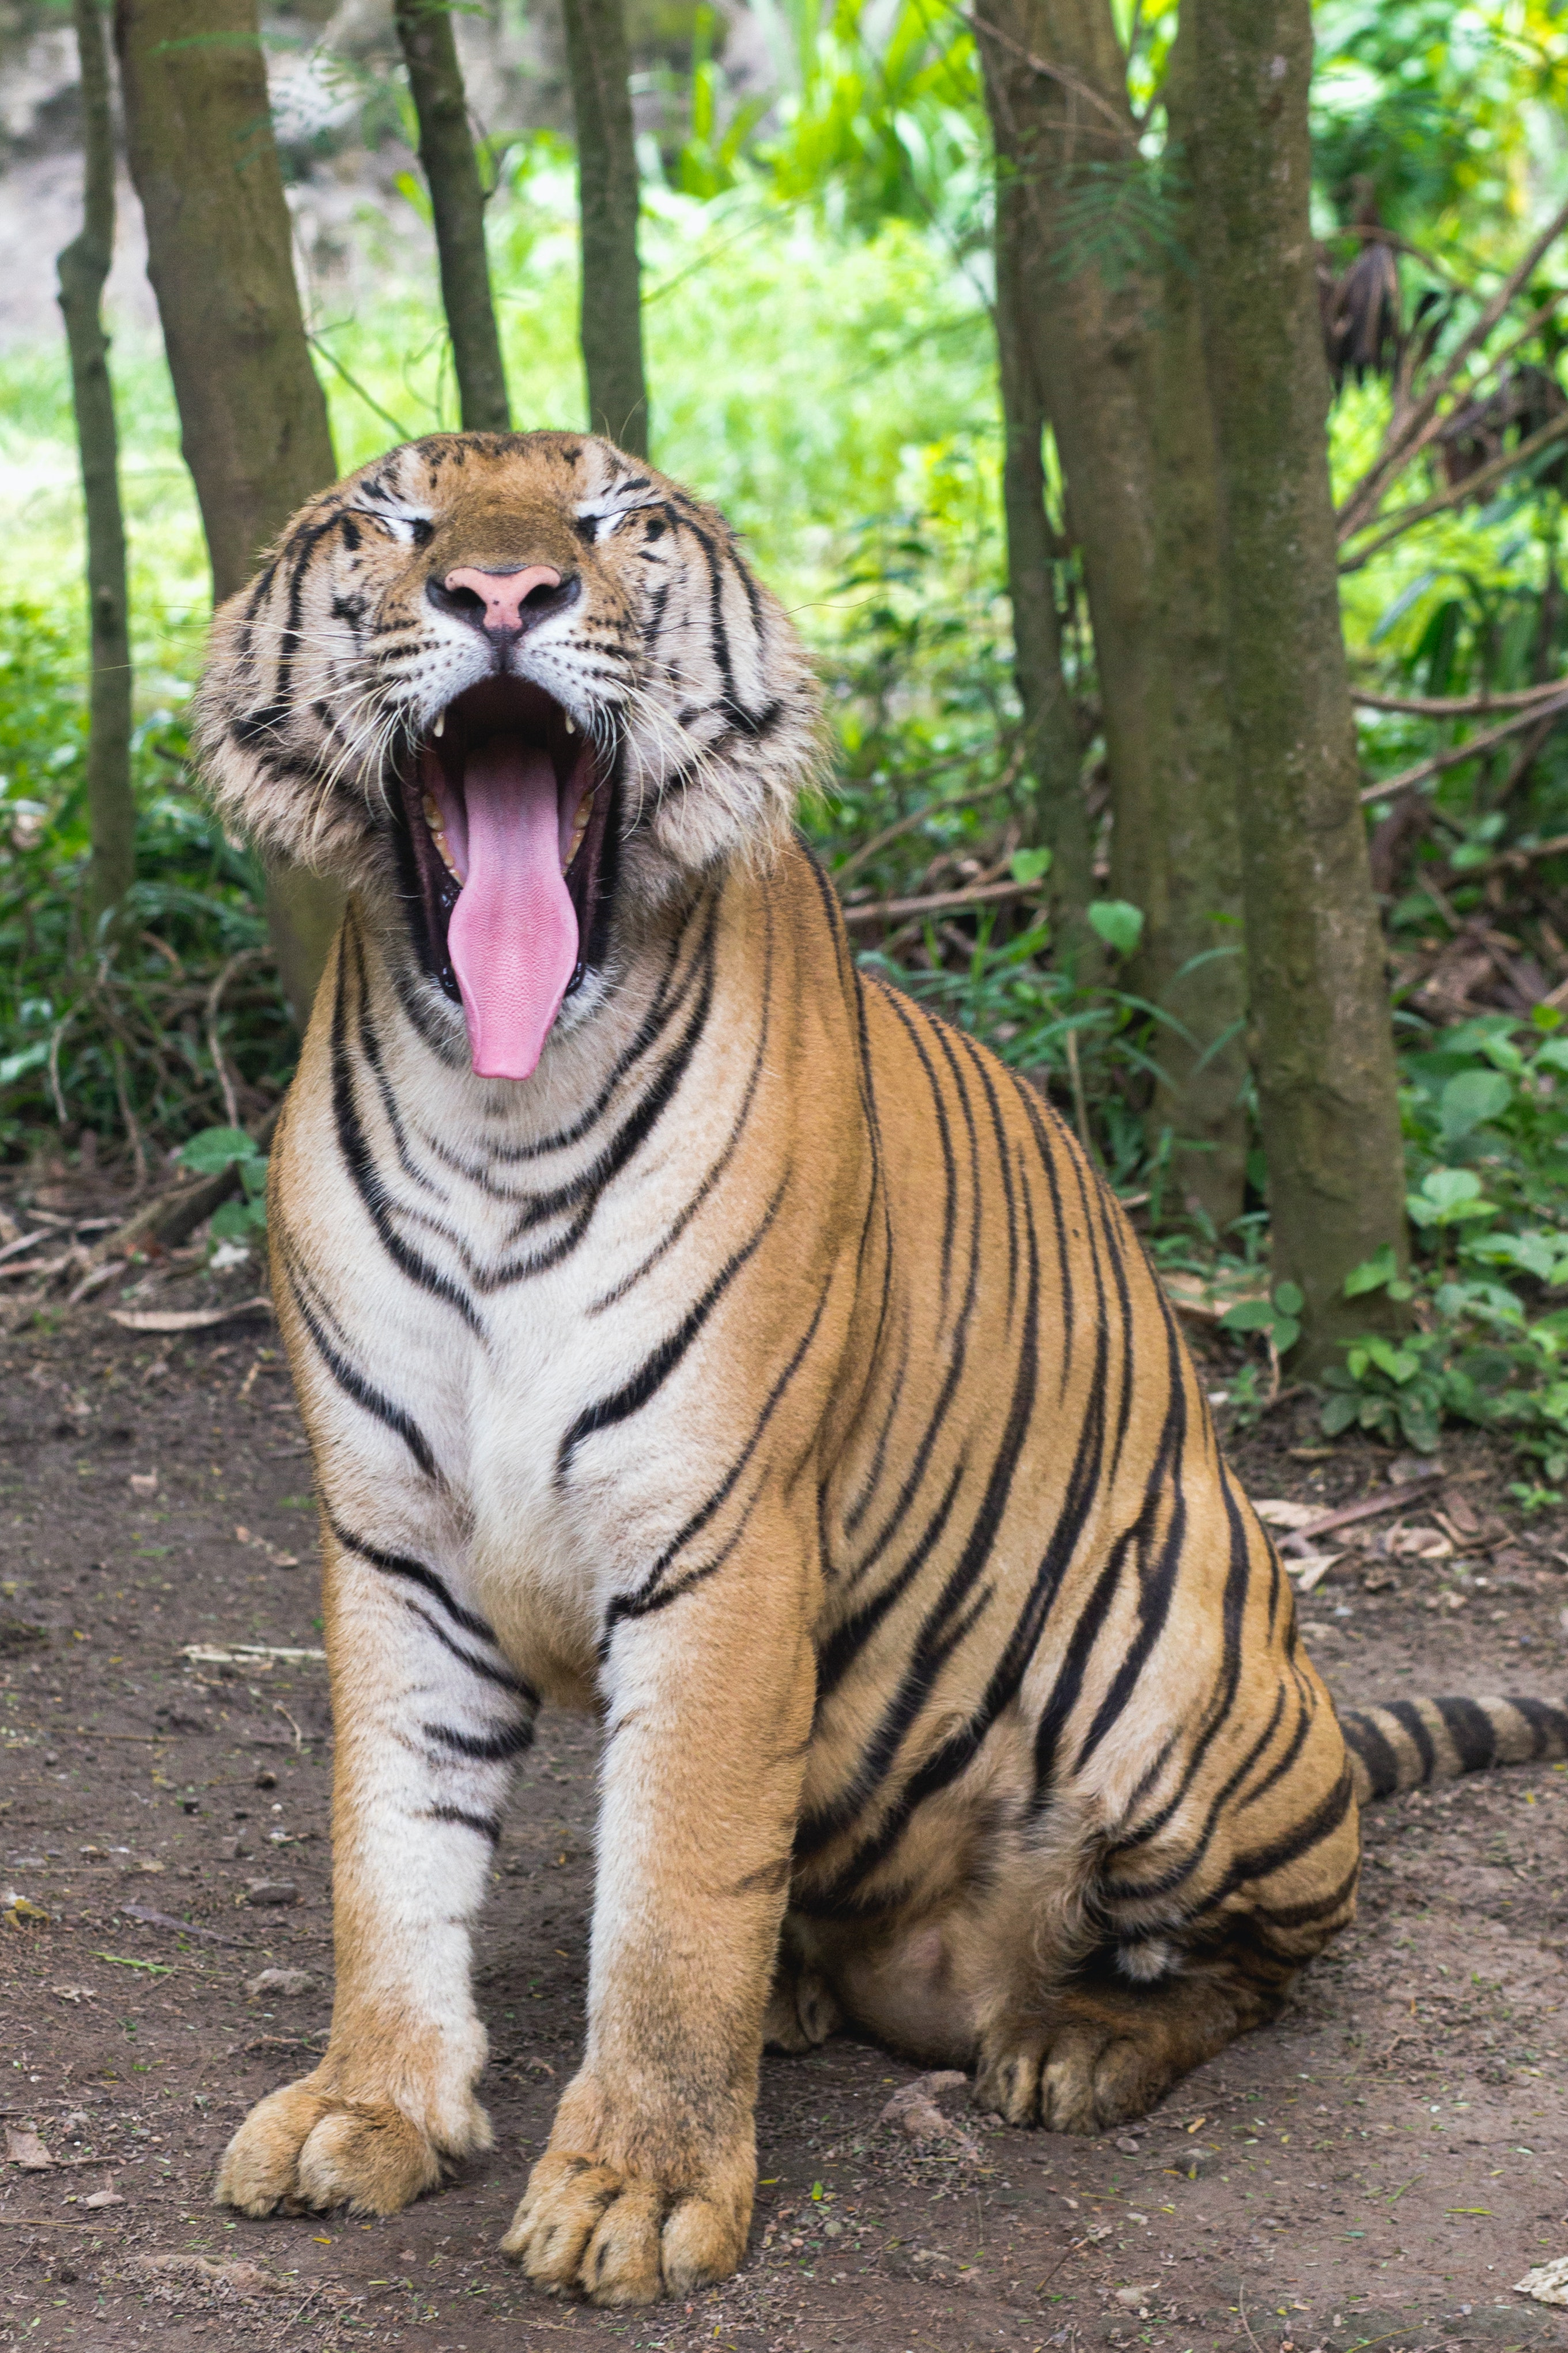tiger: (142, 373, 1510, 2339)
